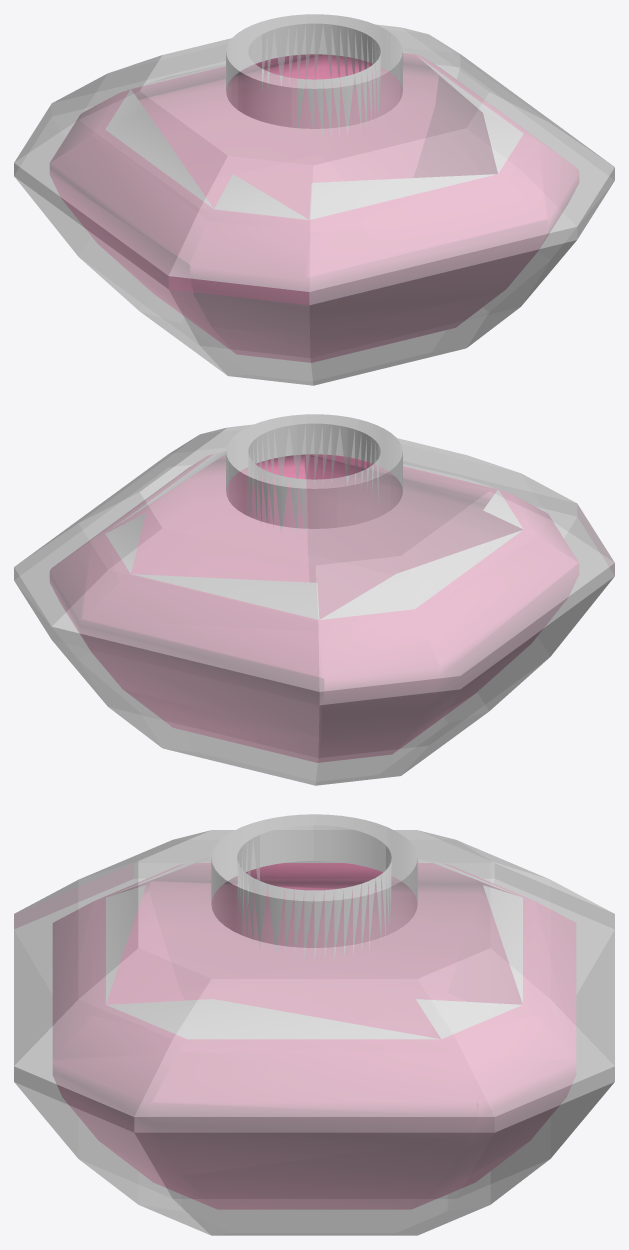
The picture shows the model from 3 angles, top to bottom: view 1: azimuth 30°, elevation 25°; view 2: azimuth 150°, elevation 25°; view 3: azimuth 270°, elevation 25°; orthographic projection. The views are drawn at different scales.
Bounding box in the file's own units: 1.57 × 0.9197 × 1.57.
